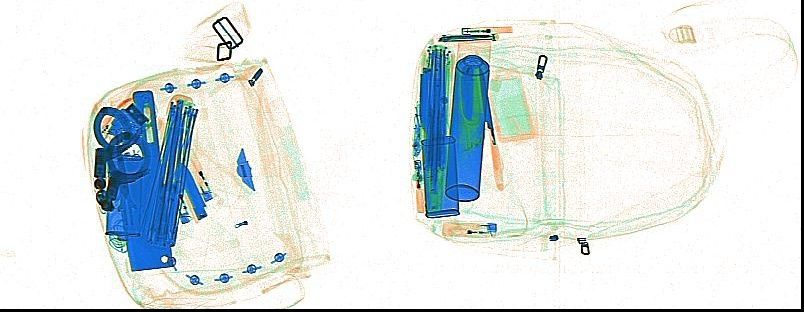handcuffs: (92, 104, 151, 212)
knife: (109, 89, 175, 271), (476, 64, 505, 190), (175, 160, 207, 221), (417, 67, 435, 138), (460, 63, 475, 122), (437, 30, 497, 42)
lighter: (184, 147, 214, 202), (164, 179, 194, 224), (441, 219, 497, 237), (411, 159, 425, 213), (460, 24, 514, 34)
pressure: (444, 35, 491, 202)
scissors: (105, 130, 148, 237)
zippooil: (105, 151, 145, 241), (420, 135, 459, 218)
